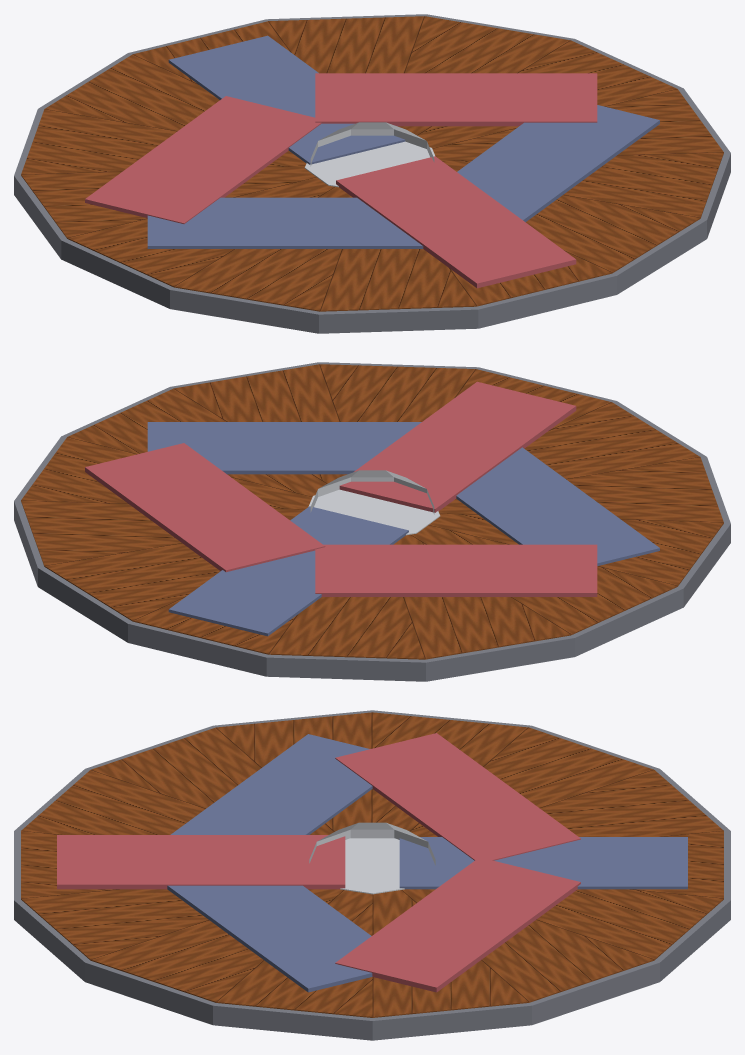
Rendered from legendary-warriors-kit-warrior-round-shield-93f2c81e__39215.glb.
The picture shows the model from 3 angles, top to bottom: view 1: azimuth 30°, elevation 25°; view 2: azimuth 150°, elevation 25°; view 3: azimuth 270°, elevation 25°; orthographic projection. The views are drawn at different scales.
Parts seen in each view (by area): view 1: warrior-round-shield; view 2: warrior-round-shield; view 3: warrior-round-shield.
Boxes of the visible parts, x1,y1,x2,y2 form: warrior-round-shield: (14,14,730,333); warrior-round-shield: (14,362,730,681); warrior-round-shield: (14,710,730,1040).
Bounding box in the file's own units: 0.816 × 0.1162 × 0.7956.
5 materials, 1 textured.
